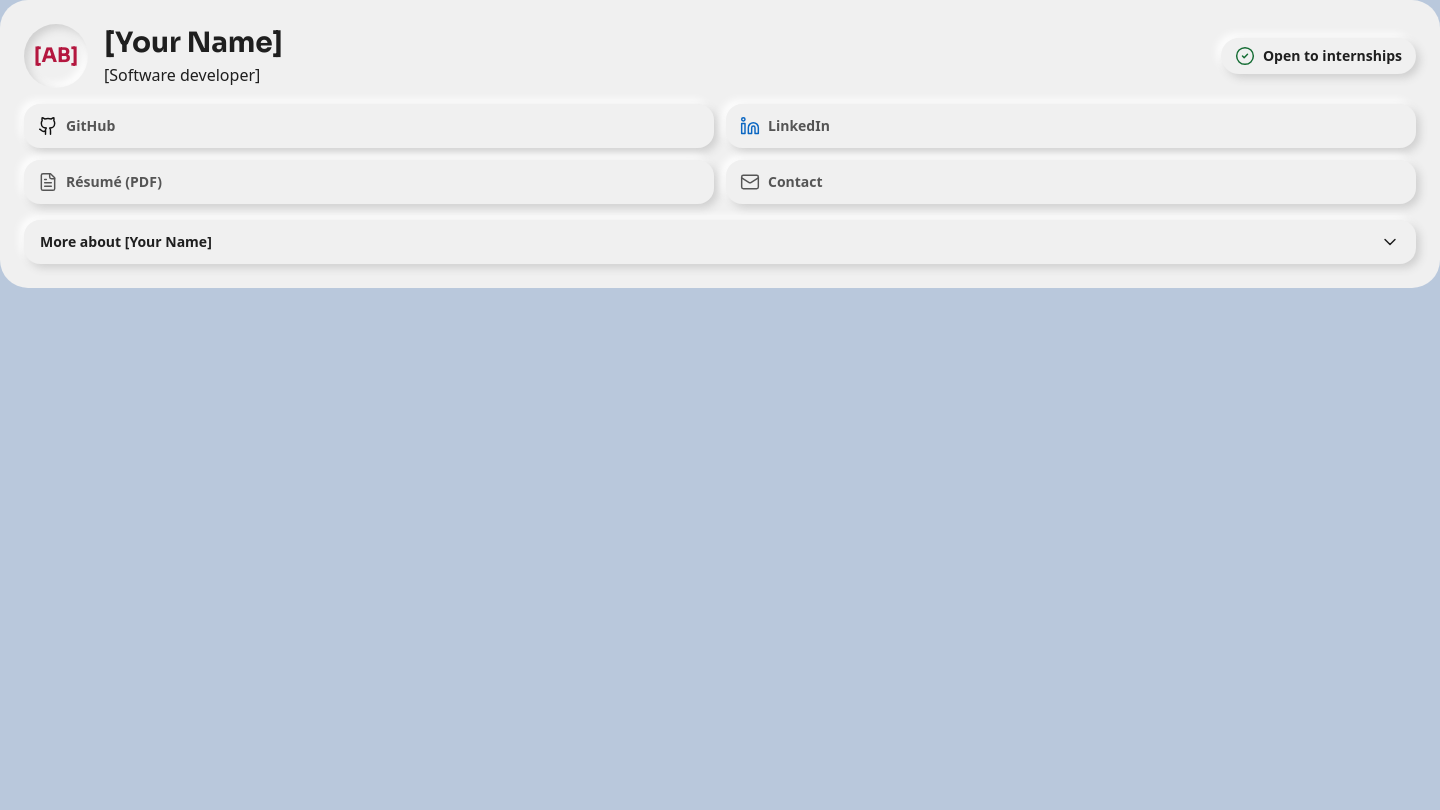
Test: PresentationCardComponent › reveals details in the compact card only after the visitor asks, and reflects it in aria-expanded
The image size is (1440, 810).
Click the button with class "expand": [126, 242] box [24,220,1416,264]
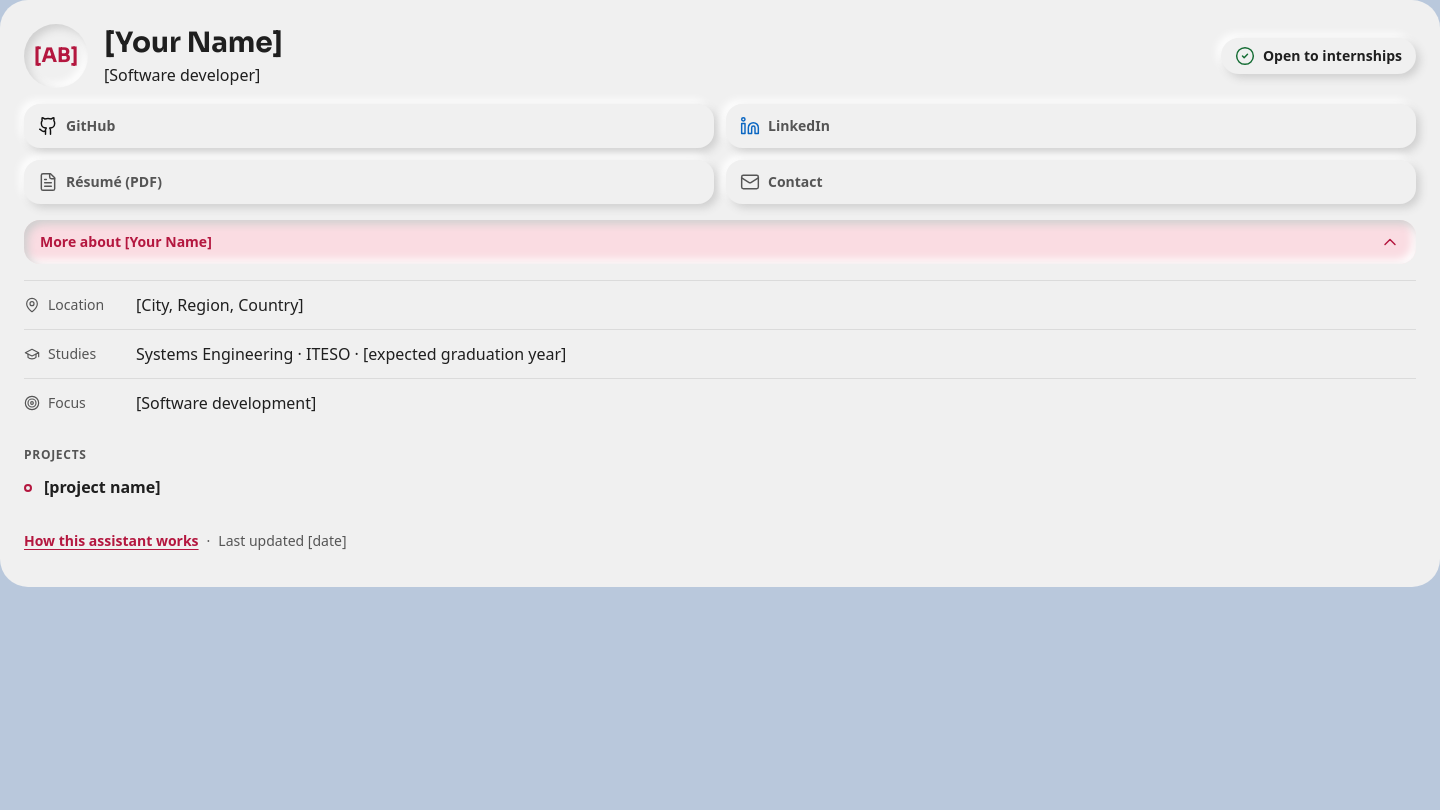
expect the text "Projects" is shown: met, box [24,446,87,463]
expect the text "Location" is shown: met, box [24,295,104,314]
Click the button with class "expand": [126, 242] box [24,220,1416,264]
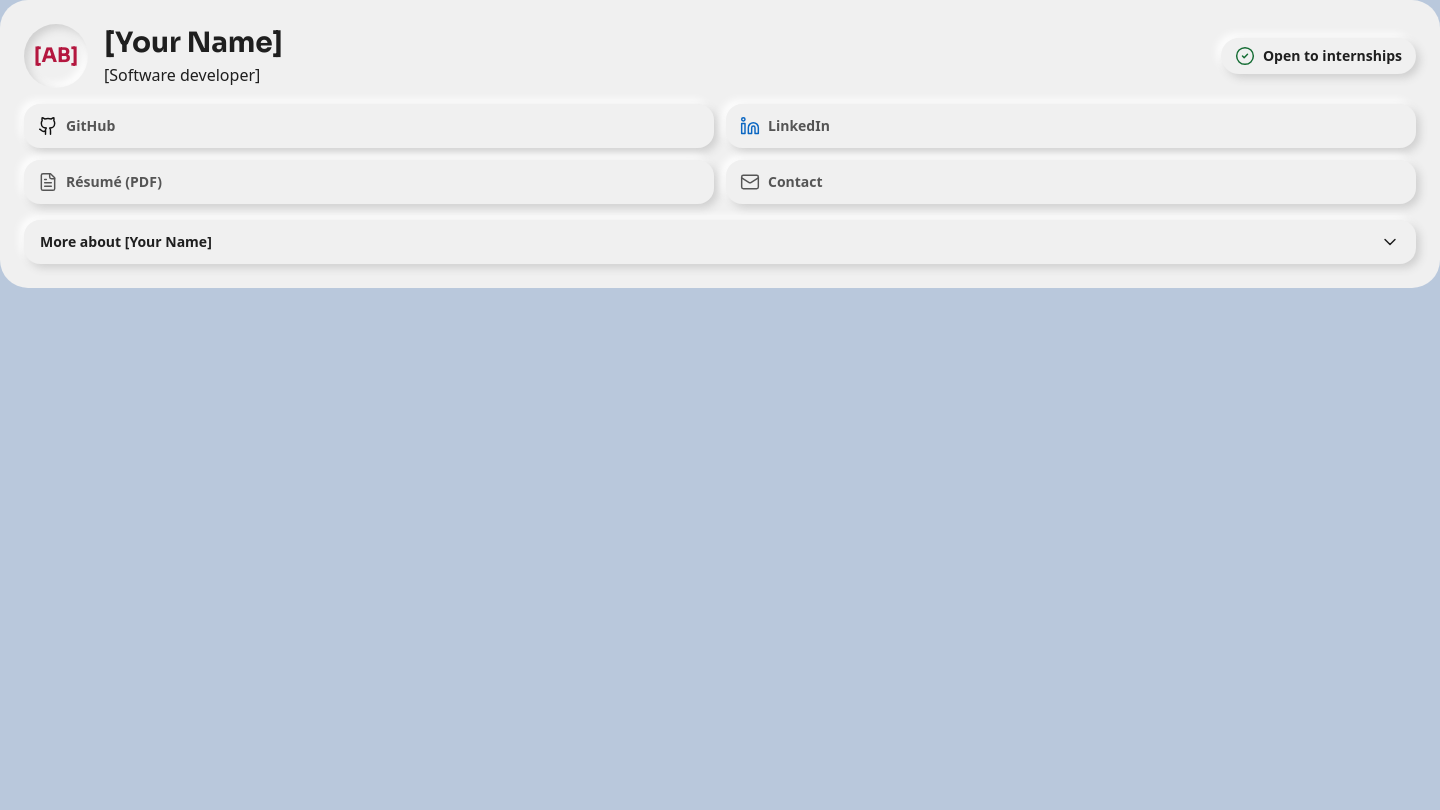
expect the text "Projects" is gone: met
